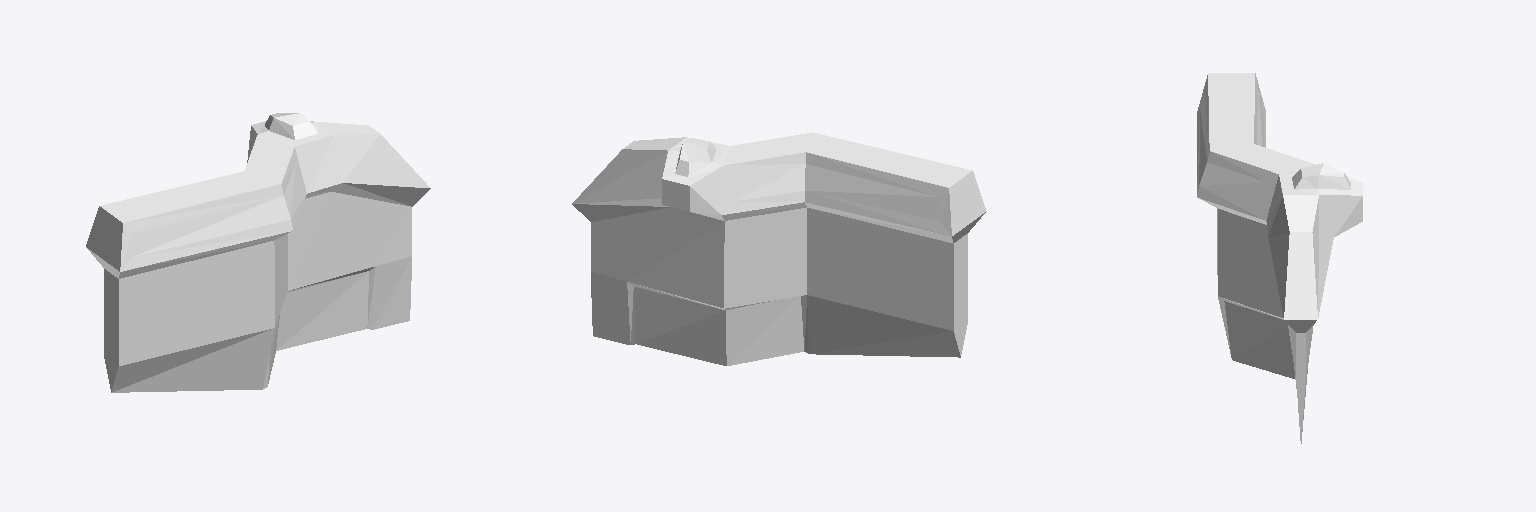
File: SpaceRanger_Jetpack_WingLeft.obj
3 renders of one model, left to right at view 1: azimuth 30°, elevation 25°; view 2: azimuth 150°, elevation 25°; view 3: azimuth 270°, elevation 25°, orthographic.
Parts seen in each view (by area): view 1: SpaceRanger_Jetpack_WingLeft; view 2: SpaceRanger_Jetpack_WingLeft; view 3: SpaceRanger_Jetpack_WingLeft.
Part boxes in pixels (x1,y1,x2,y2): SpaceRanger_Jetpack_WingLeft: (86,113,430,392); SpaceRanger_Jetpack_WingLeft: (572,132,986,365); SpaceRanger_Jetpack_WingLeft: (1197,73,1362,443).
Size of the model in its own units: 0.7994 by 0.4861 by 0.3251.